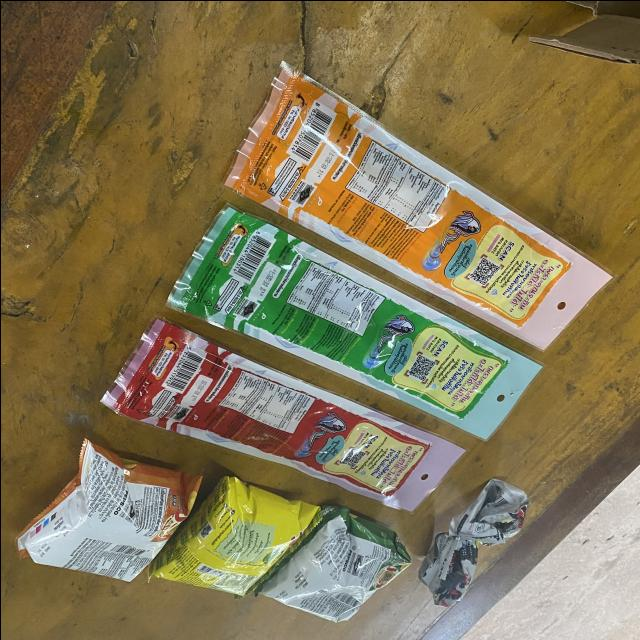plastik: (224, 63, 610, 348), (166, 204, 540, 438), (102, 320, 463, 509), (15, 438, 200, 580), (147, 476, 317, 594), (254, 505, 410, 622), (418, 478, 529, 606)
